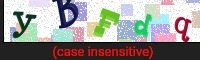B: (50, 1, 84, 31)
F: (89, 5, 122, 41)
d: (130, 11, 159, 39)
q: (170, 13, 197, 44)
y: (7, 9, 39, 38)
